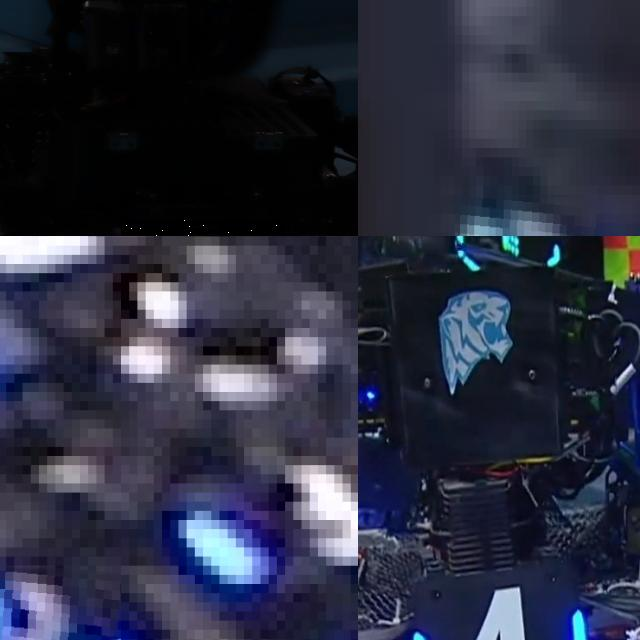B3: (0, 556, 121, 640)
B4: (412, 586, 588, 640)
B5: (455, 185, 597, 236)
